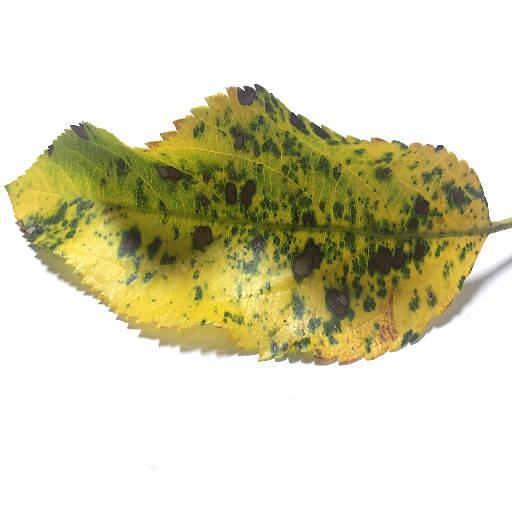Brown_Spot: (368, 299, 402, 353), (286, 241, 320, 282), (152, 163, 192, 190), (328, 292, 354, 323), (411, 195, 429, 232), (194, 226, 218, 253)
